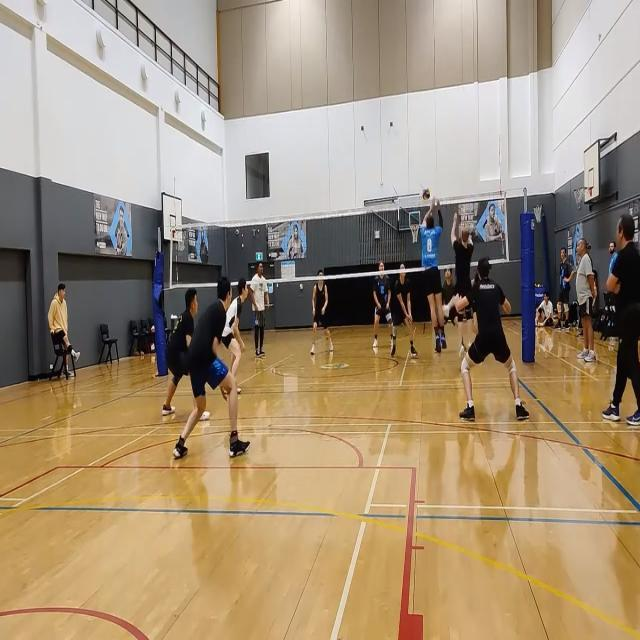volleyball: (422, 188, 431, 200)
